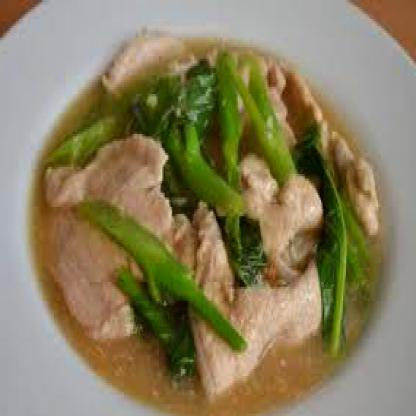Laadna: (22, 23, 390, 414)
